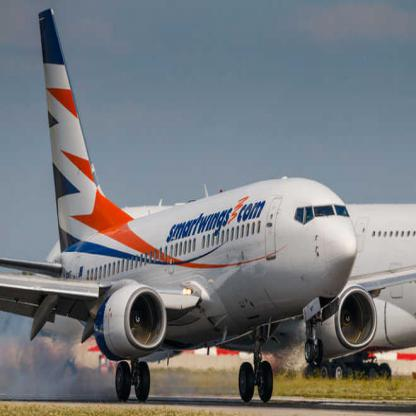CIV_Plane: (0, 5, 360, 400)
